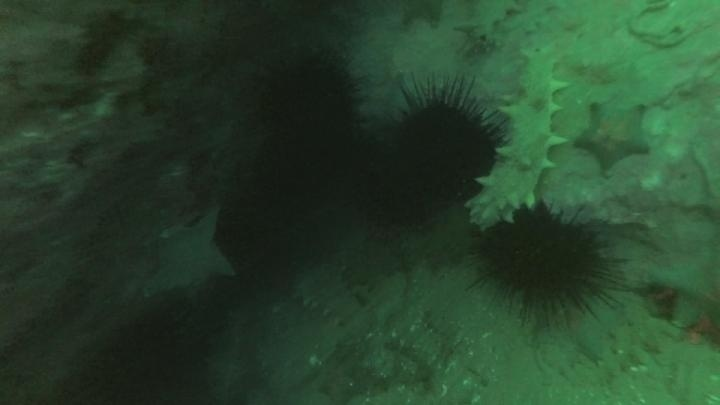echinus: (469, 200, 624, 327), (381, 86, 502, 209), (252, 49, 363, 159), (357, 153, 441, 235)
holothurian: (467, 45, 569, 233), (289, 262, 369, 330), (449, 1, 524, 46)
starfish: (534, 273, 640, 366), (140, 204, 239, 300), (645, 249, 720, 348), (572, 100, 654, 175)
